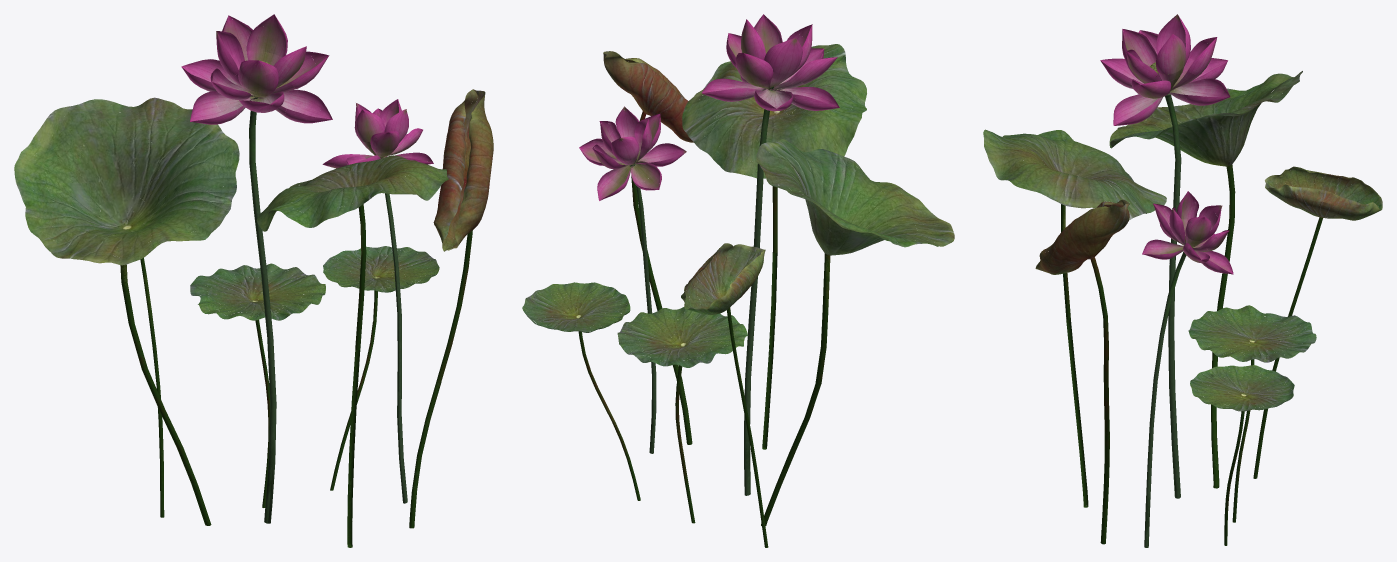
The picture shows the model from 3 angles, left to right: view 1: azimuth 30°, elevation 25°; view 2: azimuth 150°, elevation 25°; view 3: azimuth 270°, elevation 25°; orthographic projection. The views are drawn at different scales.
Visible parts, largest first — view 1: Assets 4.001_Leaf_Mlt.001_0, Assets 4.001_Petal_Mlt.001_0; view 2: Assets 4.001_Leaf_Mlt.001_0, Assets 4.001_Petal_Mlt.001_0; view 3: Assets 4.001_Leaf_Mlt.001_0, Assets 4.001_Petal_Mlt.001_0.
Part boxes in pixels (box(x1,y1,x2,y2)): Assets 4.001_Leaf_Mlt.001_0: box(14, 89, 493, 547); Assets 4.001_Petal_Mlt.001_0: box(181, 14, 433, 523); Assets 4.001_Leaf_Mlt.001_0: box(522, 44, 954, 547); Assets 4.001_Petal_Mlt.001_0: box(579, 14, 839, 495); Assets 4.001_Leaf_Mlt.001_0: box(983, 71, 1382, 545); Assets 4.001_Petal_Mlt.001_0: box(1100, 14, 1233, 547).
Size of the model in its own units: 0.9321 by 1.11 by 0.841.
2 materials, 2 textured.
